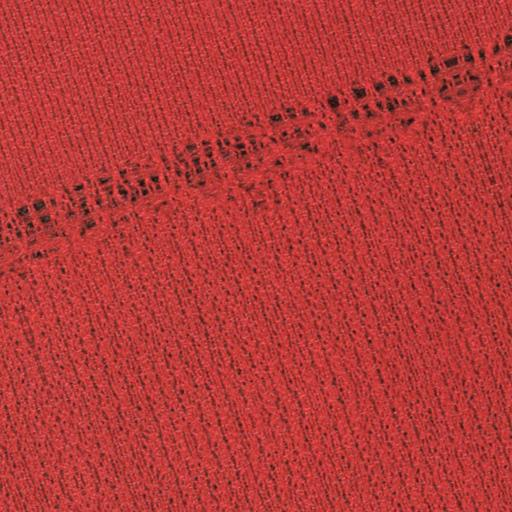slub: (1, 30, 512, 294)
